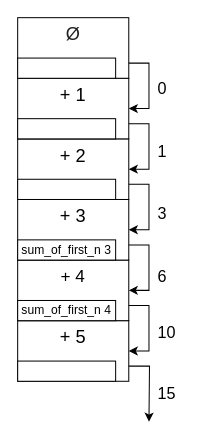
Image size: 204x447. Some labels were removed from this diagram. The centre of each missing label's shape, as x and y in pixels:
sum_of_first_n 0: the point at 66,67
sum_of_first_n 1: the point at 66,128
sum_of_first_n 2: the point at 66,188
sum_of_first_n 5: the point at 66,370
